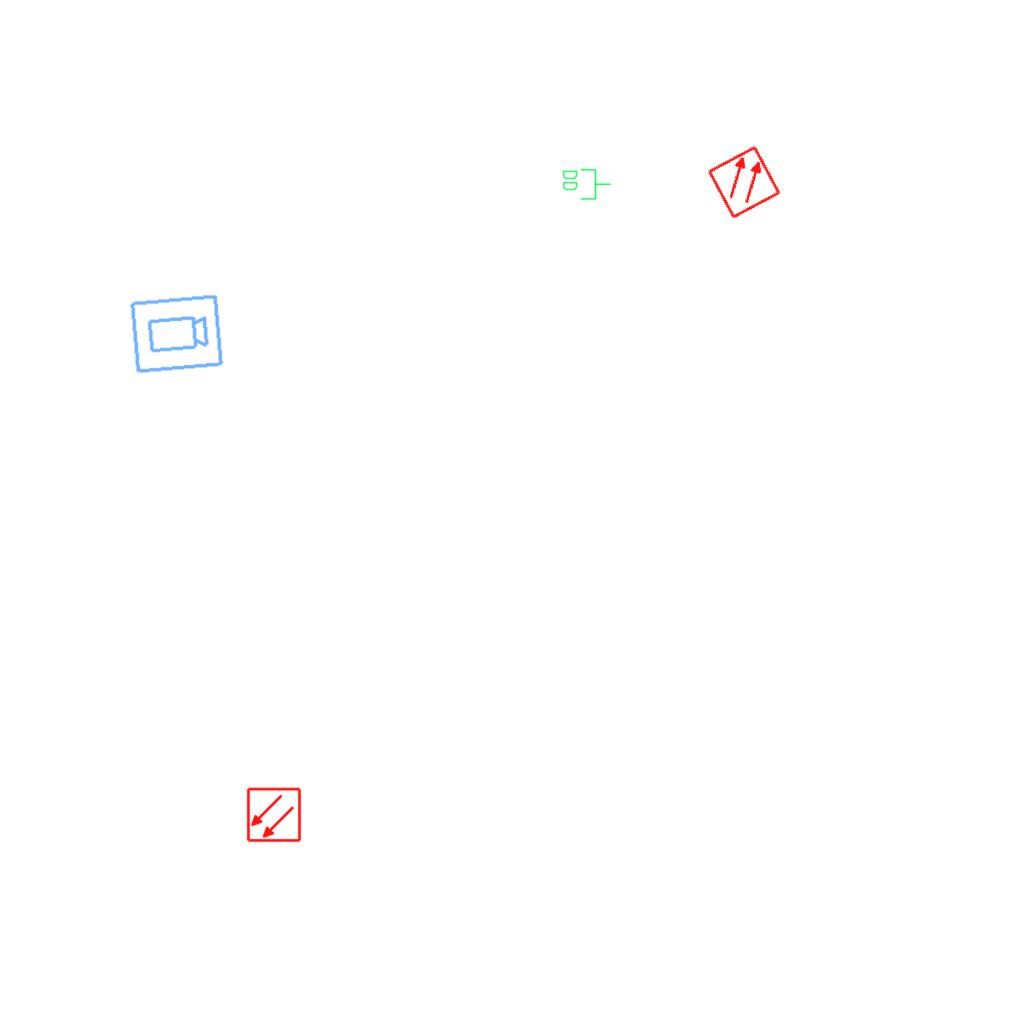Datenanschluss_zweifach: (561, 167, 612, 201)
KFO_Kamera_mit_Festobjektiv: (127, 292, 226, 377)
RMO_Rauchmelder_optischer: (706, 144, 782, 220), (246, 787, 302, 843)
